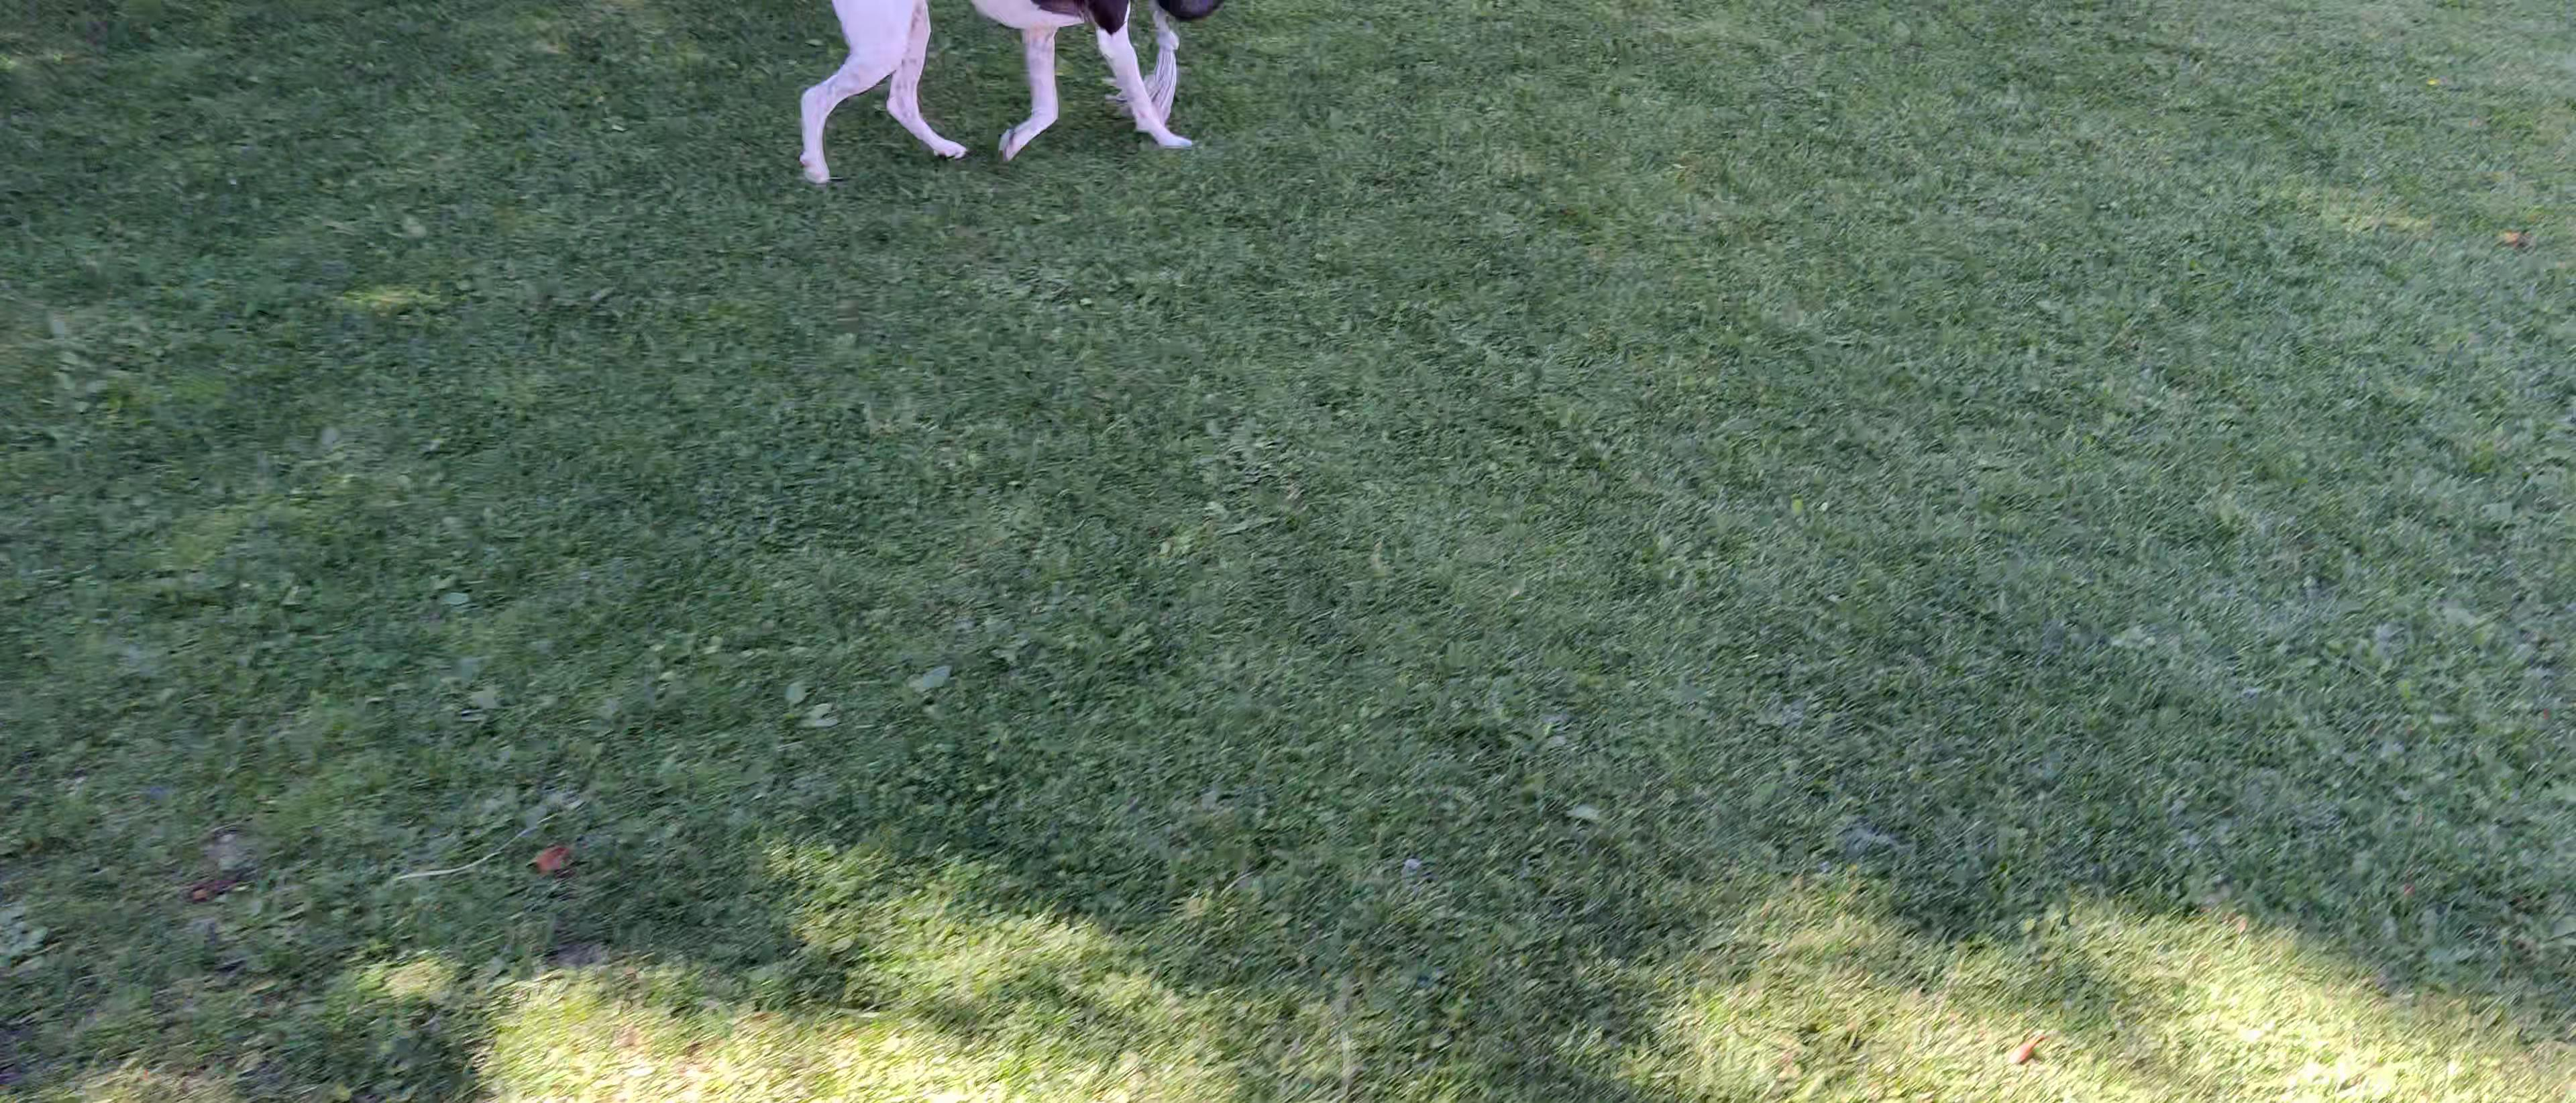Dog: (798, 0, 1196, 187)
